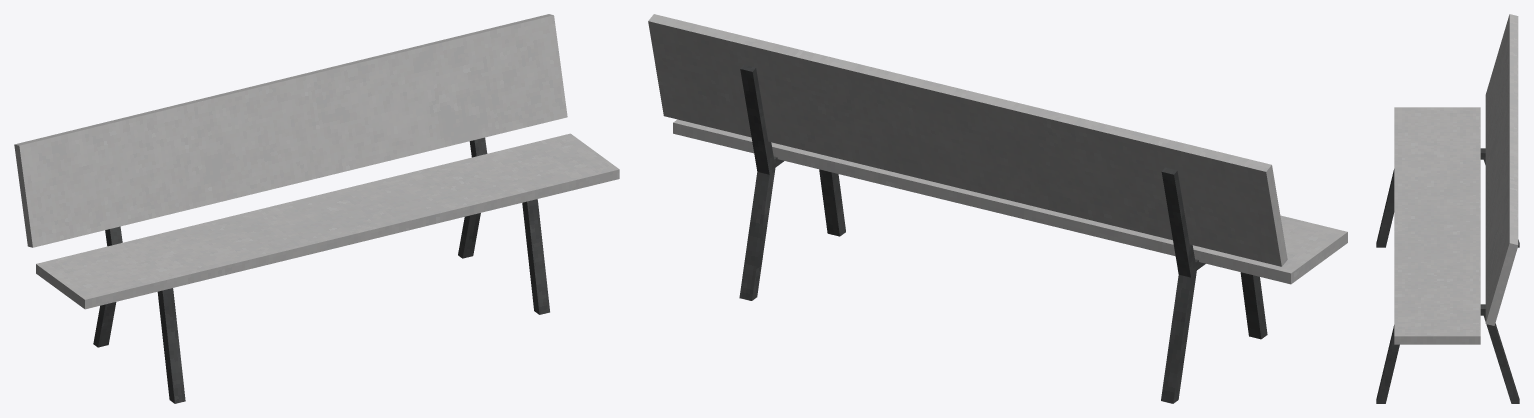
File: Bench_courtyard.glb
3 views of the same model, side by side, from view 1: azimuth 30°, elevation 25°; view 2: azimuth 150°, elevation 25°; view 3: azimuth 270°, elevation 25° (orthographic). The views are drawn at different scales.
Parts seen in each view (by area): view 1: Bench courtyard; view 2: Bench courtyard; view 3: Bench courtyard.
Boxes of the visible parts, x1,y1,x2,y2 form: Bench courtyard: (14, 14, 619, 403); Bench courtyard: (648, 14, 1347, 403); Bench courtyard: (1376, 14, 1519, 403).
Bounding box in the file's own units: 3.52 × 1.4 × 0.9312.
Materials: 2 (2 with a texture image).
